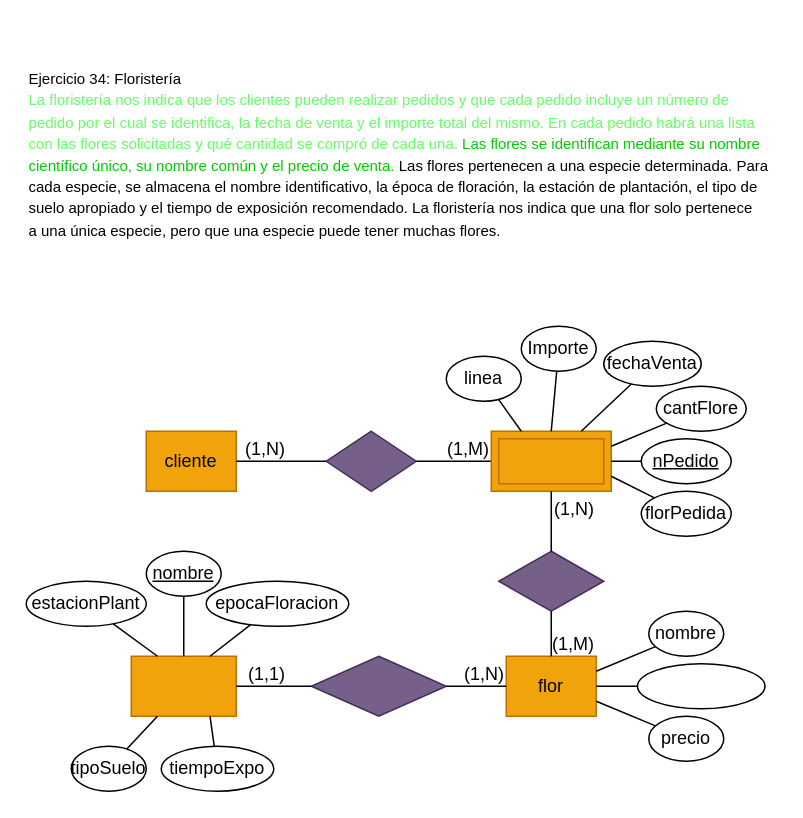
Some shapes in this 803 by 818 pixel diagram are drawn without their labels. Each missing label, with the centre of its shape:
"contiene" goes at [550,580].
"especie" goes at [183,685].
"lineaPedido" goes at [550,460].
"nombreCient" goes at [700,685].
"pertenece" goes at [378,685].
"pide" goes at [370,460].
